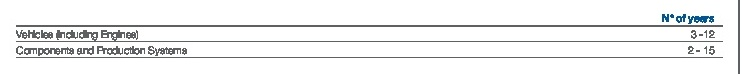table: (0, 0, 742, 74)
